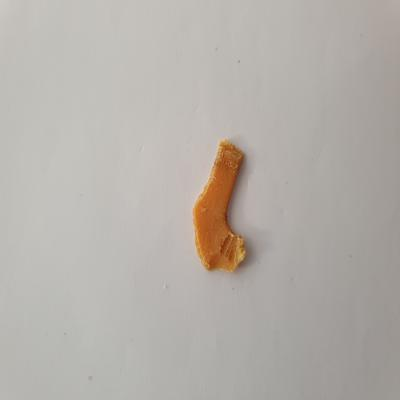plastic: (187, 137, 253, 273)
